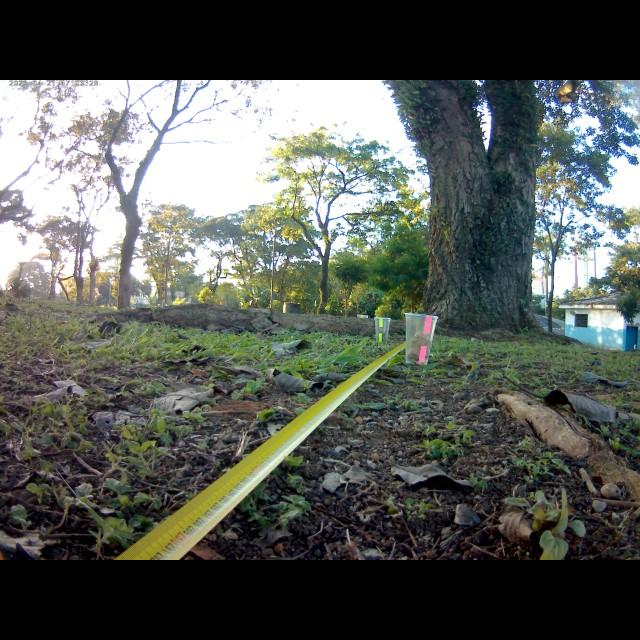arvore: (374, 80, 553, 349)
